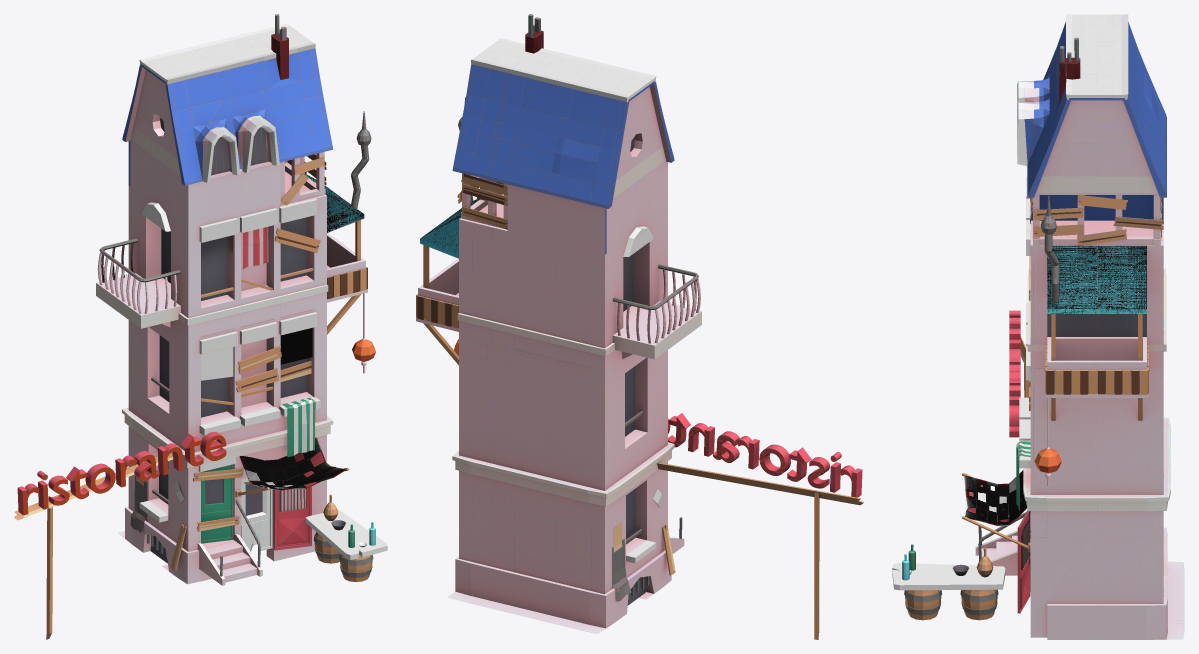
Rendered from Building-Ristorante-low-poly.fbx.
3 renders of one model, left to right at view 1: azimuth 30°, elevation 25°; view 2: azimuth 150°, elevation 25°; view 3: azimuth 270°, elevation 25°, orthographic. The views are drawn at different scales.
Parts seen in each view (by area): view 1: Text; view 2: Text; view 3: Text.
Part boxes in pixels (x1,y1,x2,y2): Text: [14, 14, 387, 639]; Text: [416, 14, 863, 639]; Text: [892, 14, 1184, 639].
Size of the model in its own units: 1081 by 1512 by 658.
2 materials, 1 textured.
